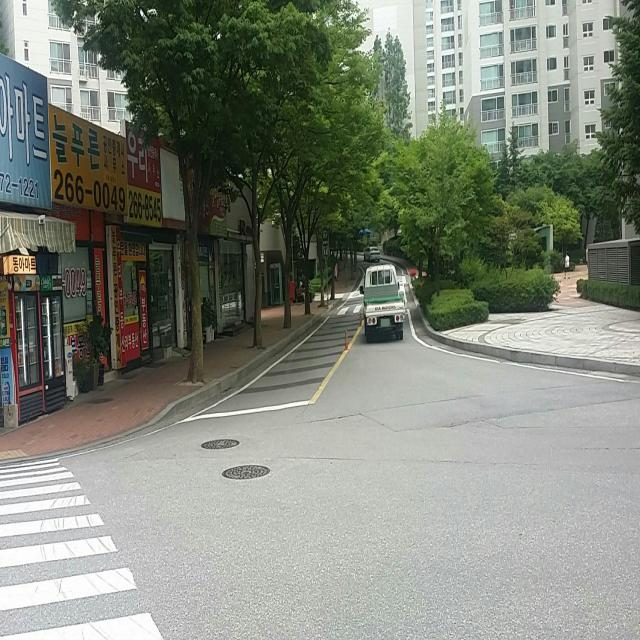횡단보도: (0, 456, 165, 640)
